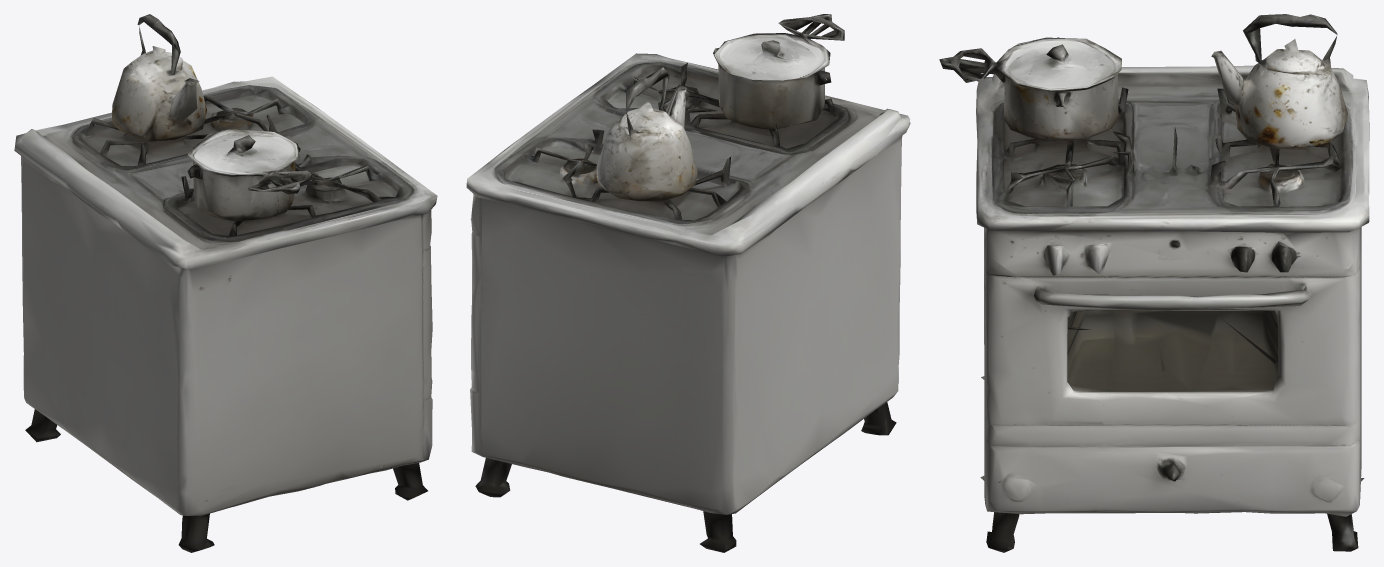
The model's file is kh_stove.glb.
3 views of the same model, side by side, from view 1: azimuth 30°, elevation 25°; view 2: azimuth 150°, elevation 25°; view 3: azimuth 270°, elevation 25° (orthographic). The views are drawn at different scales.
Visible parts, largest first — view 1: tripo_node_8595f9a5-13d4-4e7d-8231-b6553c591f0d; view 2: tripo_node_8595f9a5-13d4-4e7d-8231-b6553c591f0d; view 3: tripo_node_8595f9a5-13d4-4e7d-8231-b6553c591f0d.
Boxes of the visible parts, x1,y1,x2,y2 form: tripo_node_8595f9a5-13d4-4e7d-8231-b6553c591f0d: [14, 14, 437, 552]; tripo_node_8595f9a5-13d4-4e7d-8231-b6553c591f0d: [466, 14, 910, 552]; tripo_node_8595f9a5-13d4-4e7d-8231-b6553c591f0d: [939, 14, 1369, 552].
Bounding box in the file's own units: 0.7384 × 1 × 0.8416.
Materials: 1 (1 with a texture image).
